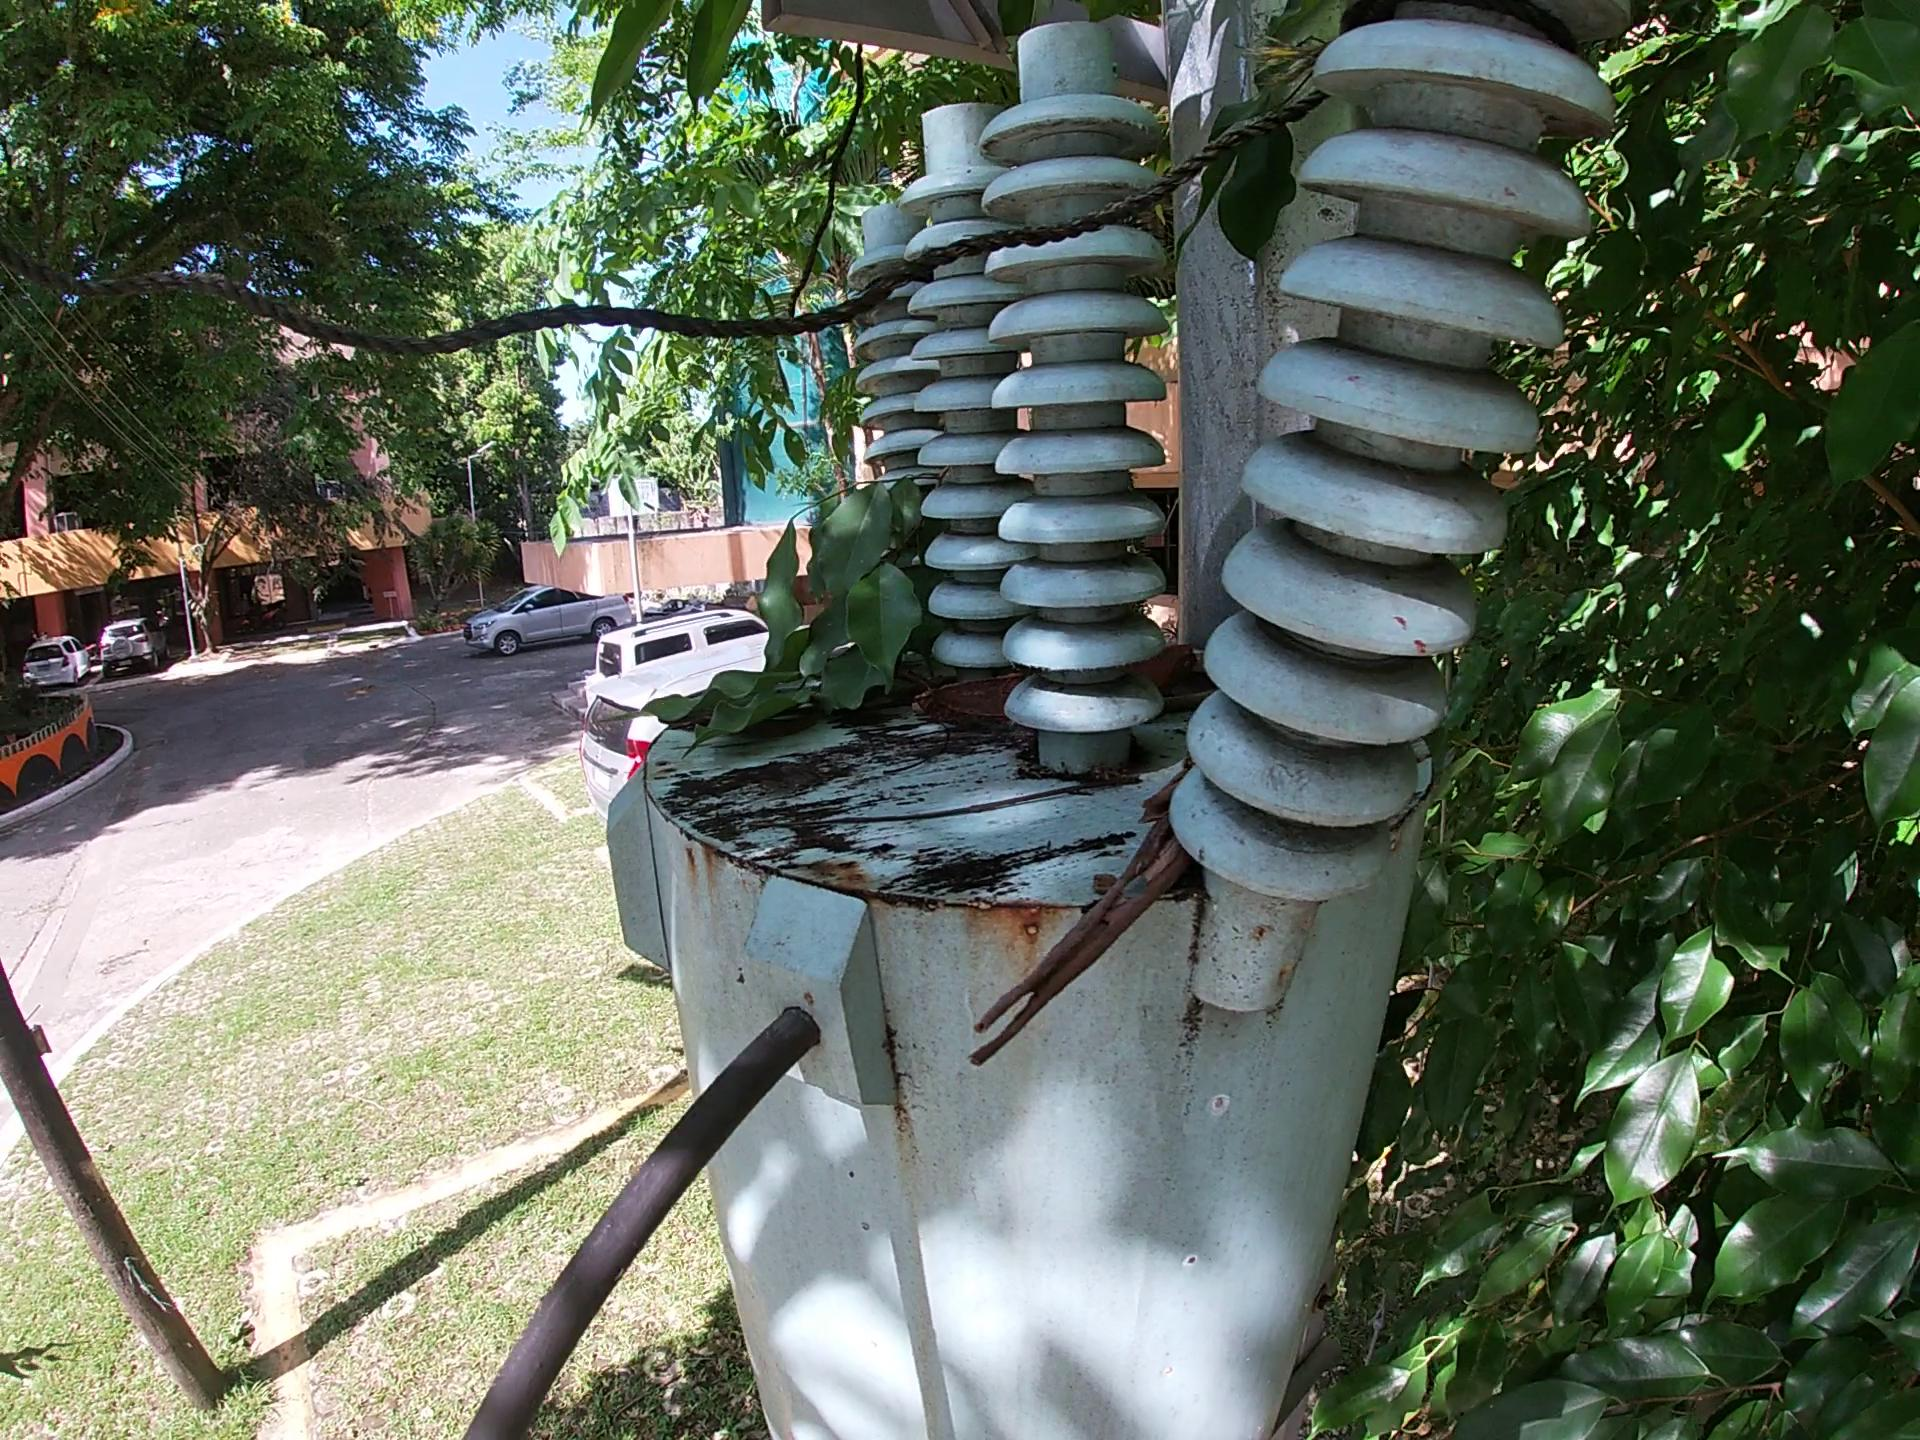branch with leaves: (647, 461, 962, 771)
mahogany fruit: (915, 669, 1037, 735), (1138, 640, 1197, 703)
tree branch: (955, 774, 1231, 1066), (816, 777, 1122, 833), (880, 714, 945, 785)
